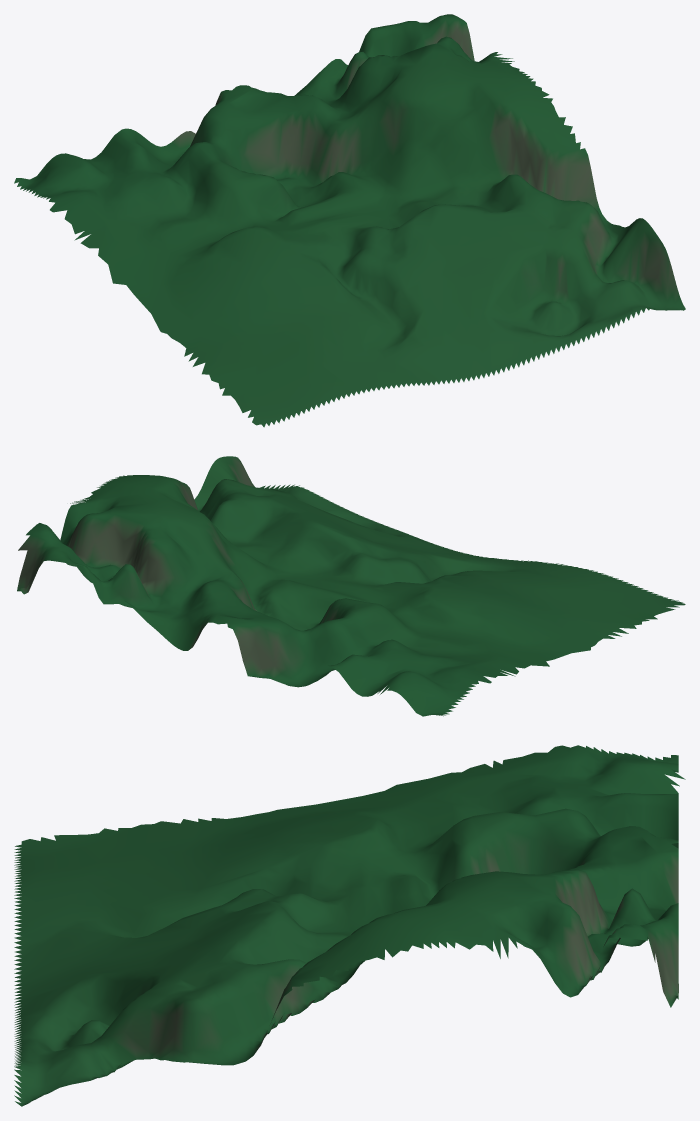
File: payo_land_x1_y4_lod1.glb
3 views of the same model, one above another, from view 1: azimuth 30°, elevation 25°; view 2: azimuth 150°, elevation 25°; view 3: azimuth 270°, elevation 25° (orthographic). The views are drawn at different scales.
Visible parts, largest first — view 1: payo_land_x1_y4; view 2: payo_land_x1_y4; view 3: payo_land_x1_y4.
Boxes of the visible parts, bbox=[...] form: payo_land_x1_y4: bbox=[14, 14, 685, 427]; payo_land_x1_y4: bbox=[17, 456, 685, 716]; payo_land_x1_y4: bbox=[14, 745, 685, 1106].
Bounding box in the file's own units: 268 × 85.95 × 261.
